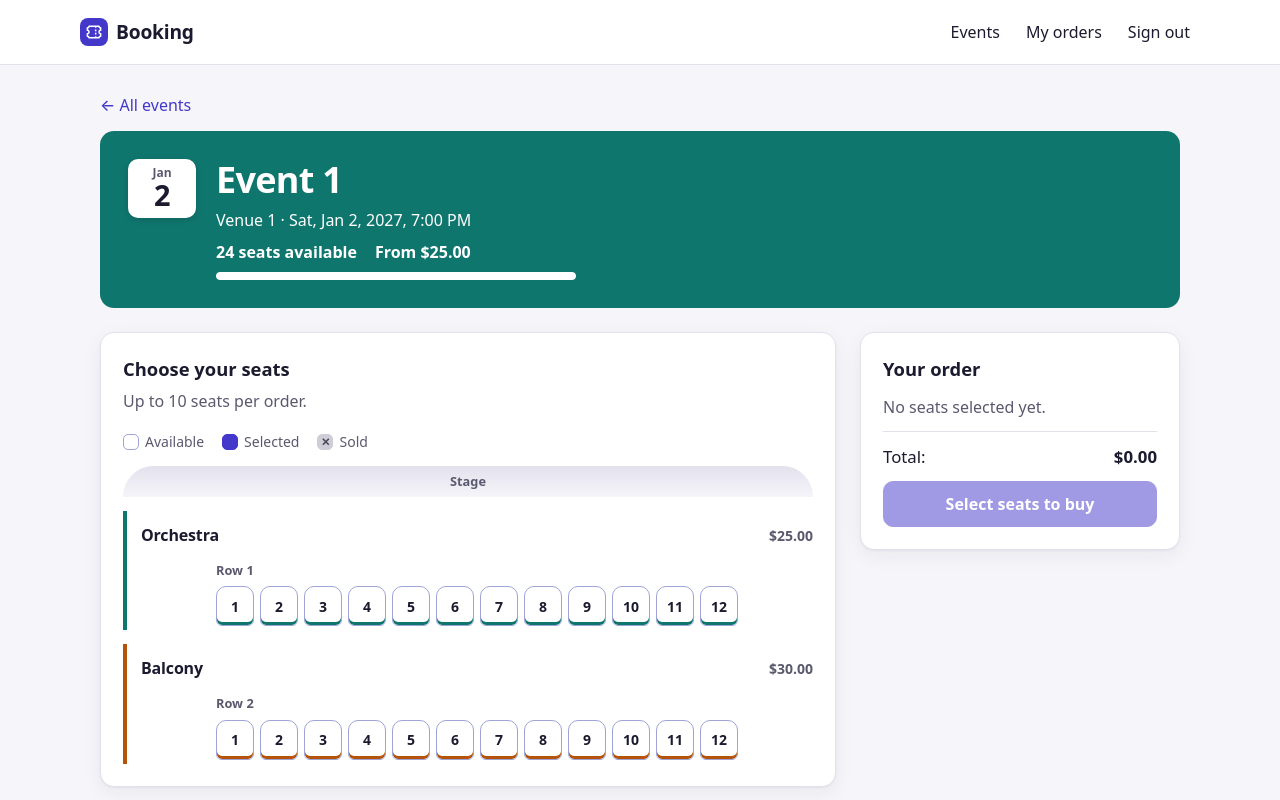
EventPage › adds up the seats you pick
What coordinates should you click on to do the following:
click the button named "Seat R1-1,"
I would click on:
 (235, 606)
Its box is [216,586,254,626].
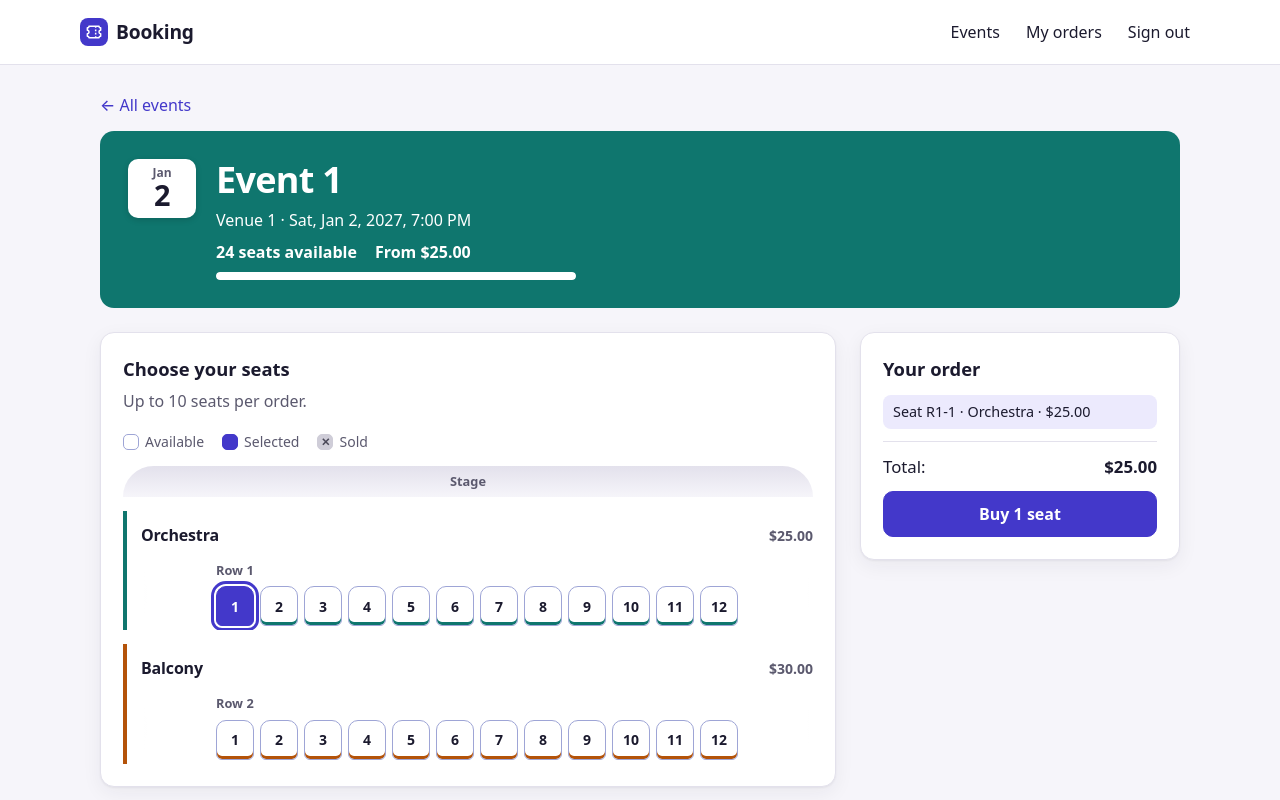
What coordinates should you click on to do the following:
click the button "1" below "Balcony"
I would click on:
 (235, 740)
Its box is [216,720,254,760].
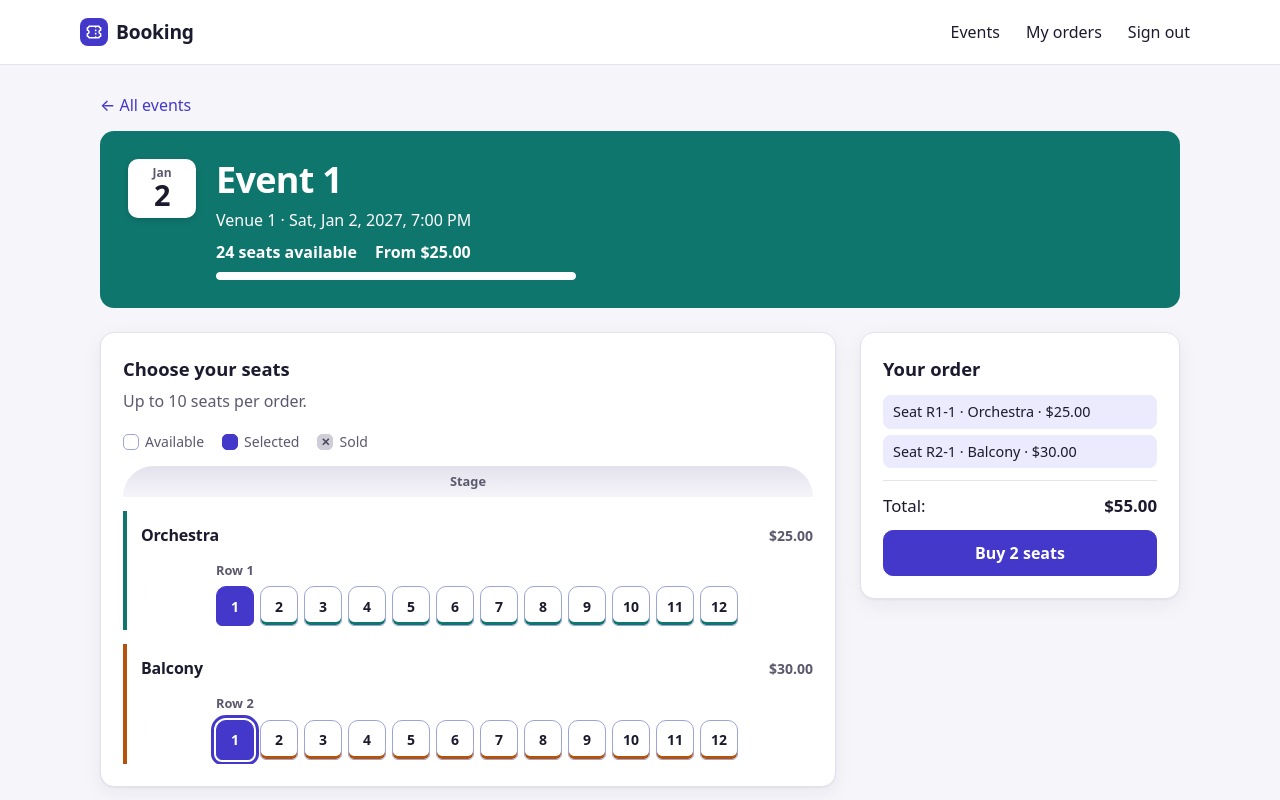
Expected: the button "Buy 2 seats" is enabled, [883,530,1157,576]
Expected: the text with test id "order-total" reads "$55.00", [1104,494,1157,517]
What coordinates should you click on to do the following:
click the button named "Seat R1-1,"
I would click on:
 (235, 606)
Its box is [216,586,254,626].
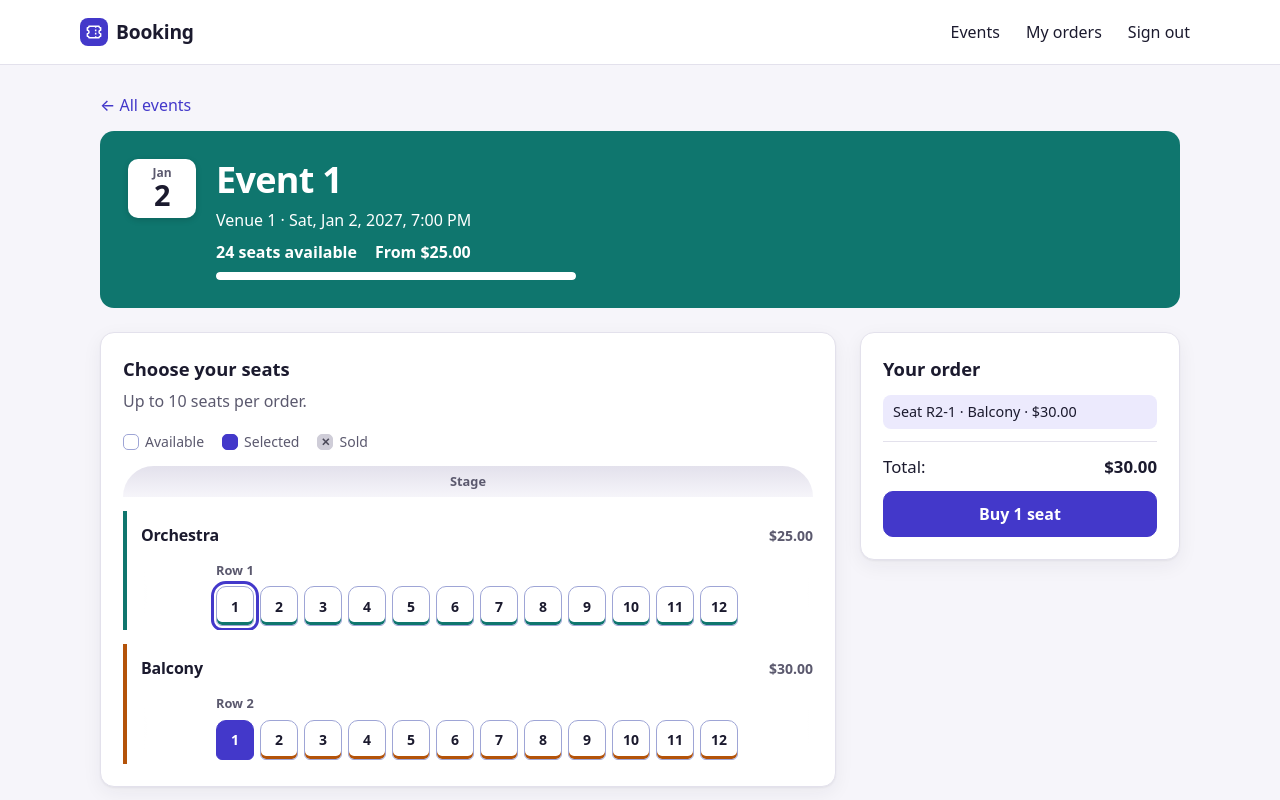
Expected: the text with test id "order-total" reads "$30.00", [1104,455,1157,478]
